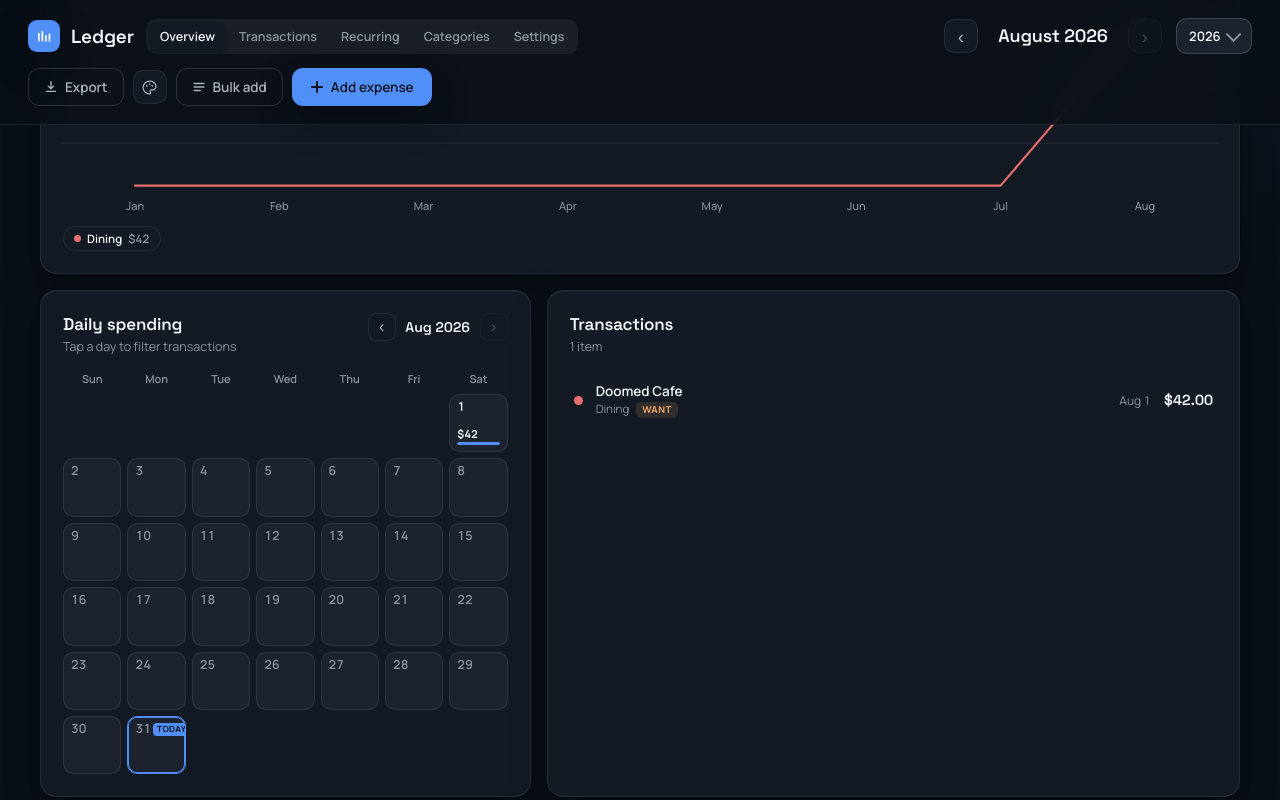
App — smoke + parity › deleting a transaction offers Undo, which restores it
(page scrolled)
// open the detail modal and delete (two-step confirm)
Click the button "Doomed Cafe Dining Want Aug 1 $42.00".
click(639, 391)  # box [570,371,1217,429]
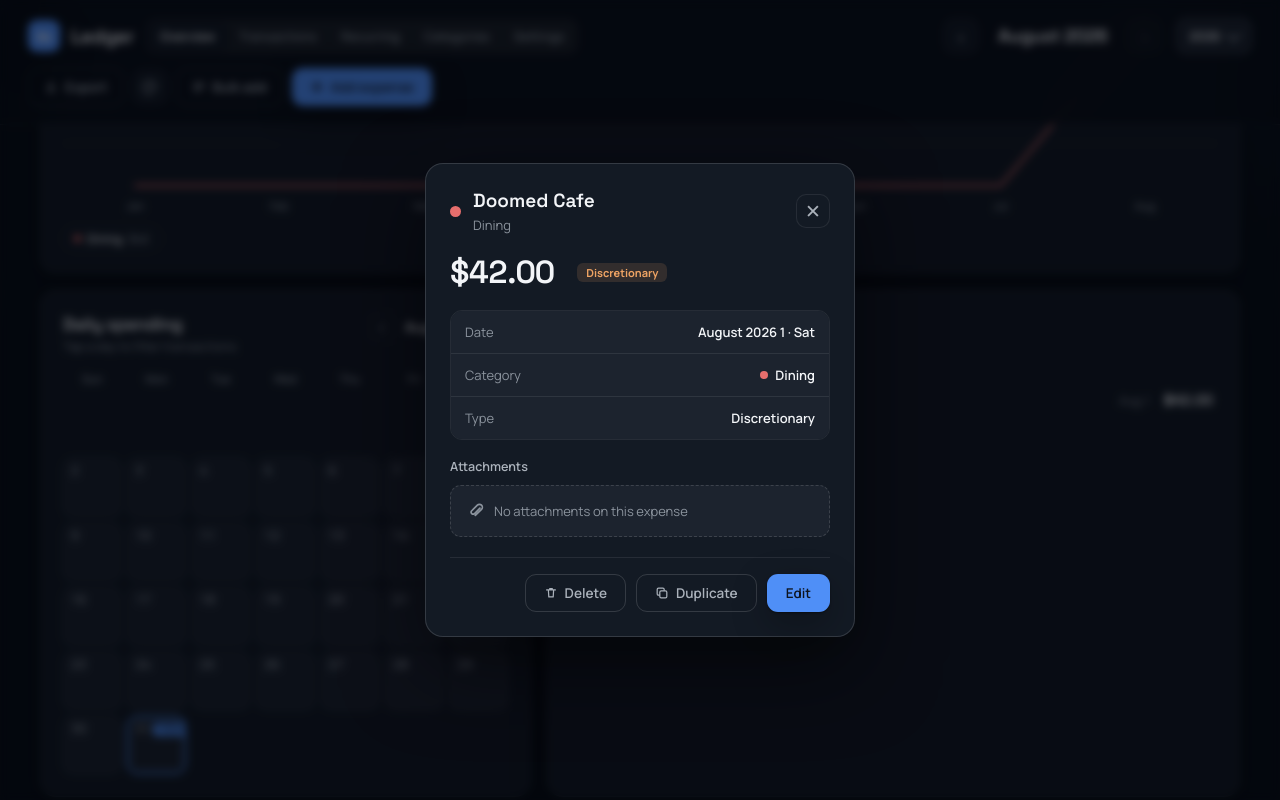
Click the button "Delete".
click(575, 593)  # box [525,574,626,612]
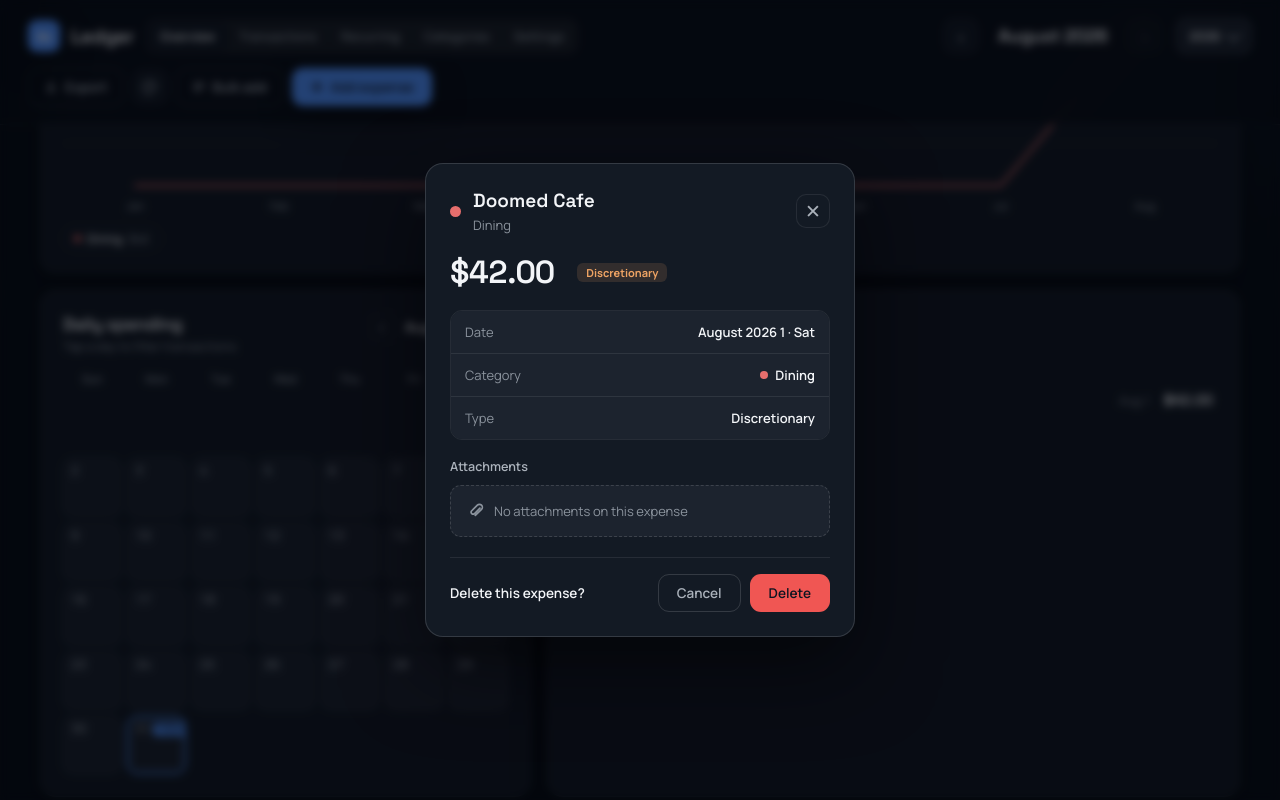
Click the button "Delete".
click(790, 593)  # box [750,574,830,612]
(page scrolled)
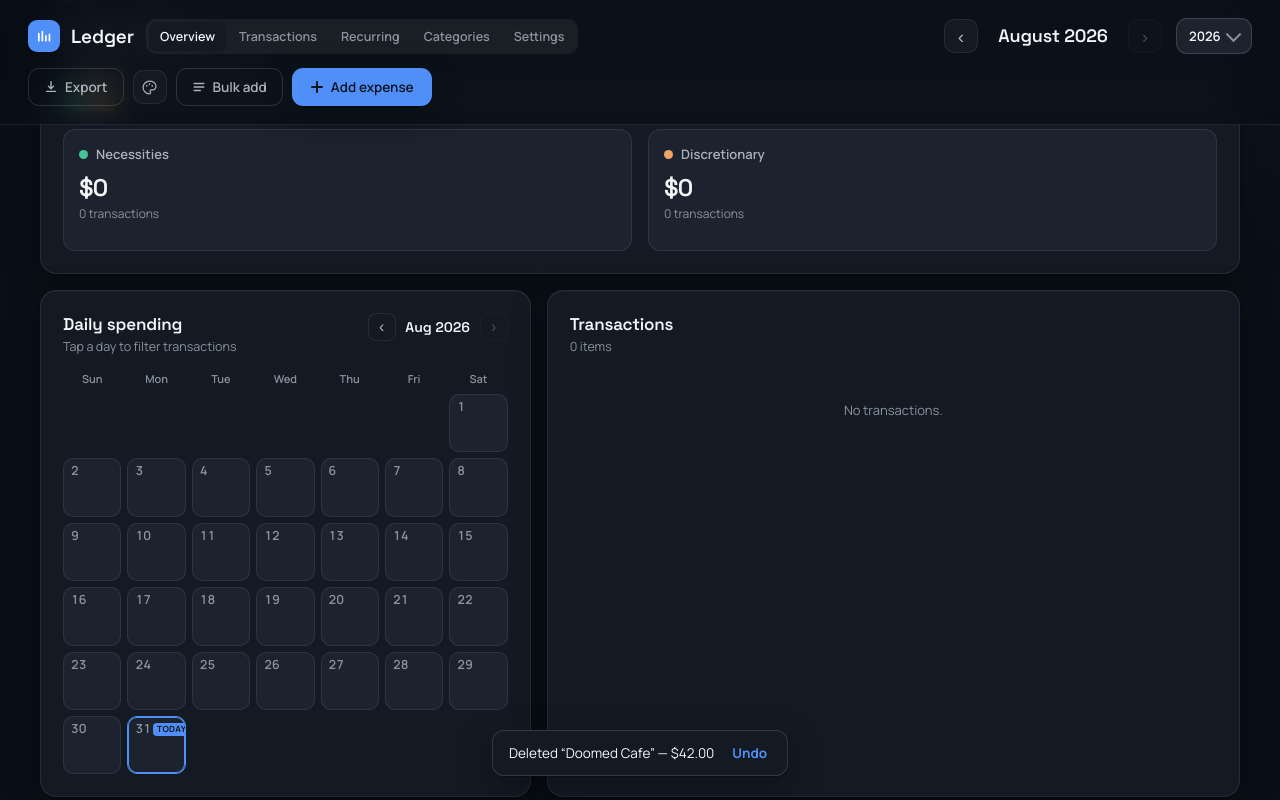
Click the button "Undo".
click(750, 753)  # box [728,742,771,764]
(page scrolled)
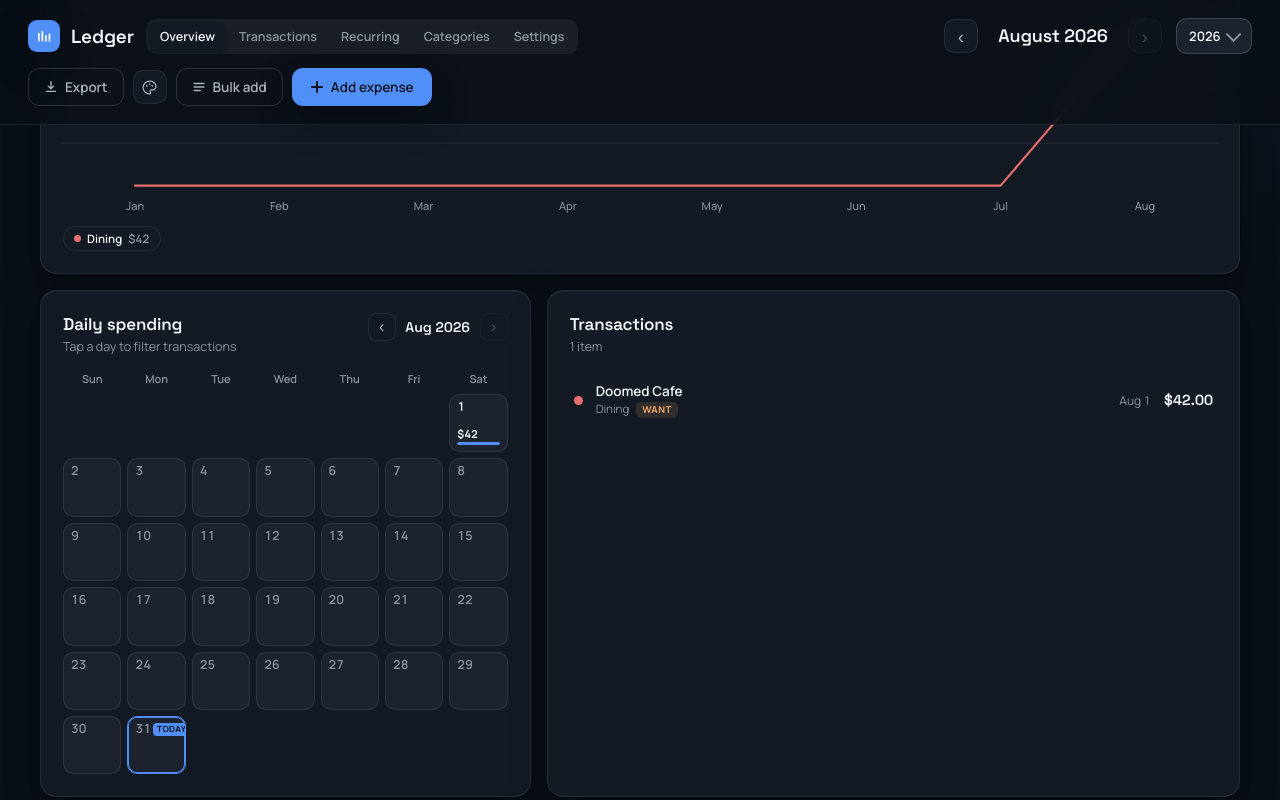
Result: the text "Doomed Cafe" is shown at [596,382,683,400]
